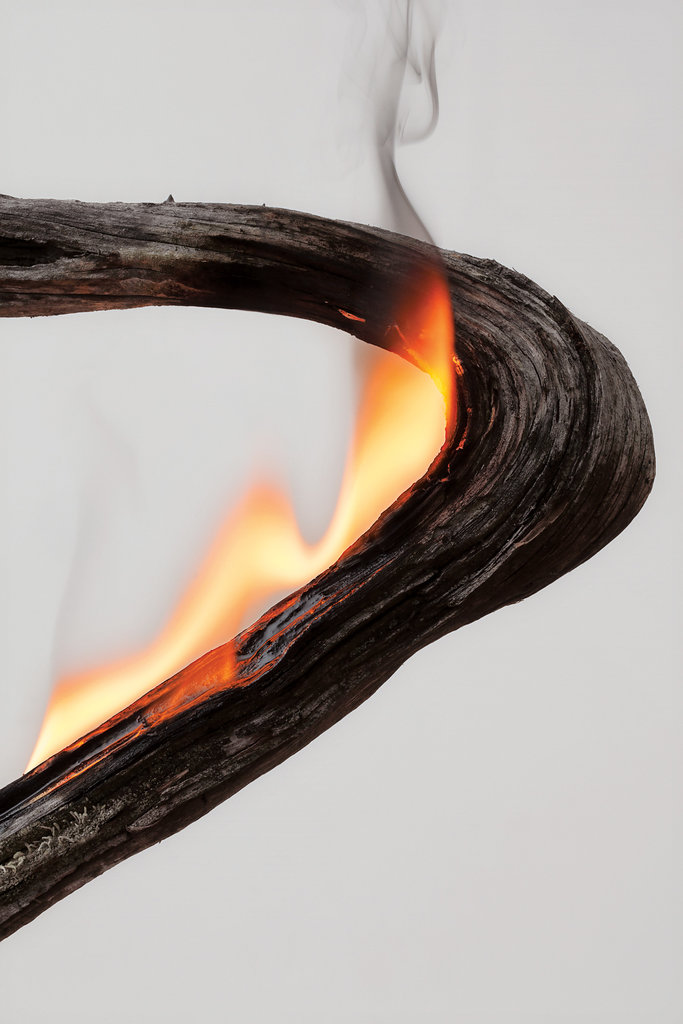fire: (337, 311, 464, 503), (194, 507, 305, 608), (128, 645, 244, 703)
smoke: (353, 6, 467, 235)
